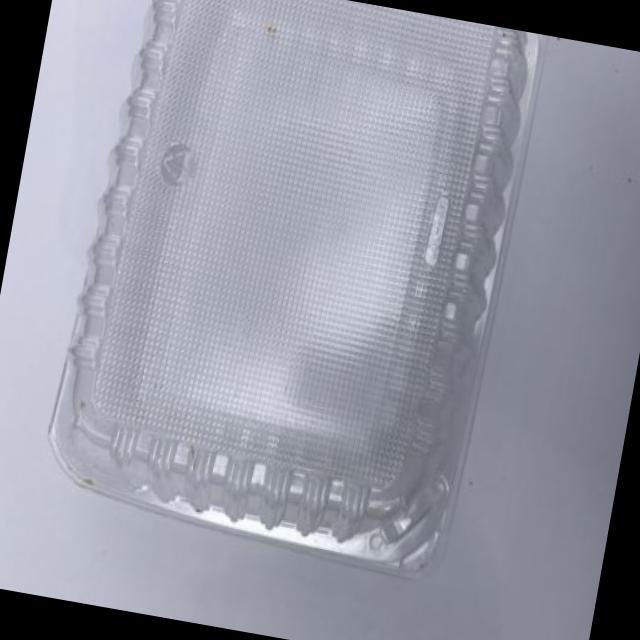Recycle: (32, 0, 547, 586)
